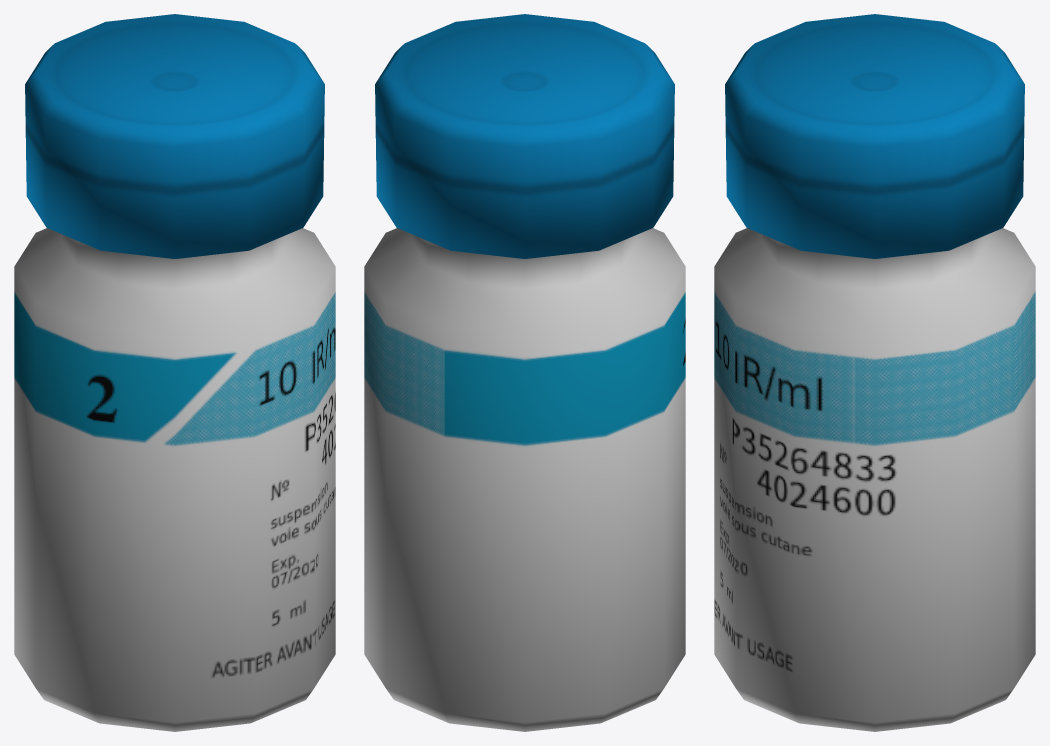
Rendered from medicalBottle.fbx.
3 renders of one model, left to right at view 1: azimuth 30°, elevation 25°; view 2: azimuth 150°, elevation 25°; view 3: azimuth 270°, elevation 25°, orthographic.
Parts seen in each view (by area): view 1: Plane.005; view 2: Plane.005; view 3: Plane.005.
Boxes of the visible parts, bbox=[...] form: Plane.005: bbox=[14, 14, 335, 731]; Plane.005: bbox=[364, 14, 685, 731]; Plane.005: bbox=[714, 14, 1035, 731].
Size of the model in its own units: 0.0245 by 0.05 by 0.0245.
Materials: 1 (1 with a texture image).
